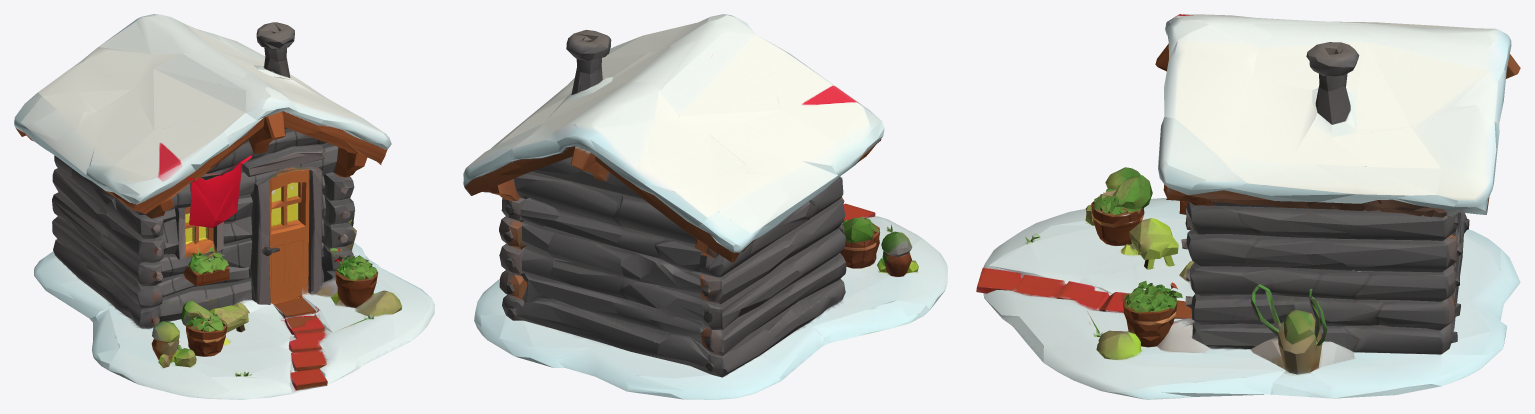
File: med_center.glb
The picture shows the model from 3 angles, left to right: view 1: azimuth 30°, elevation 25°; view 2: azimuth 150°, elevation 25°; view 3: azimuth 270°, elevation 25°; orthographic projection. The views are drawn at different scales.
Bounding box in the file's own units: 1.63 × 1.16 × 1.9.
1 material, 1 textured.
